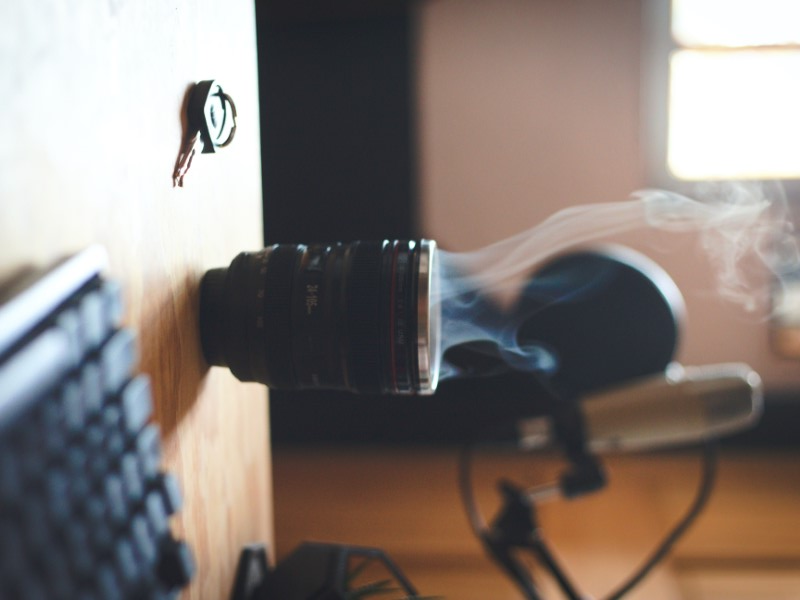key: (167, 72, 244, 187)
